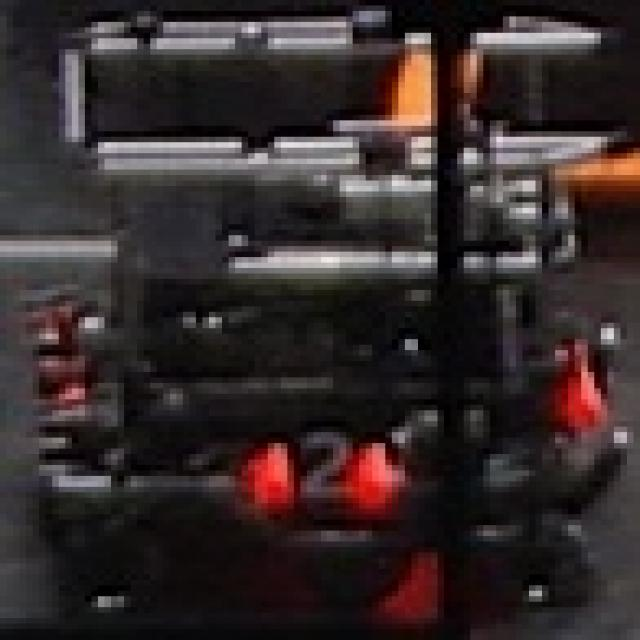R2: (232, 416, 408, 514)
